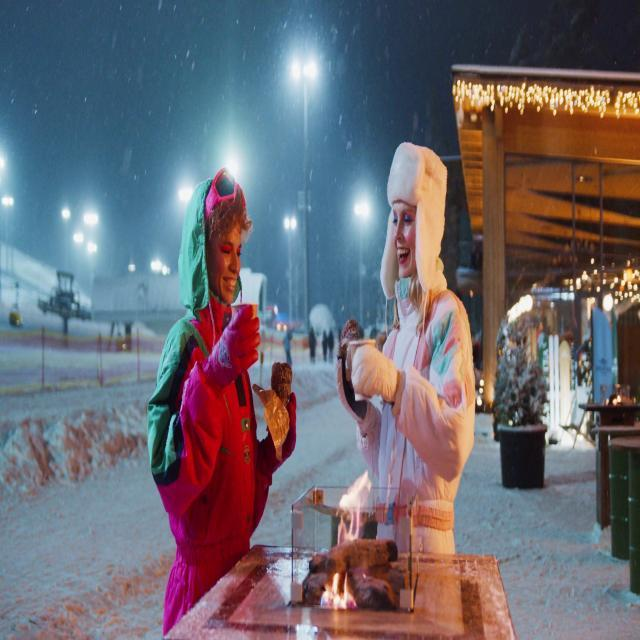Fire: (323, 462, 376, 612)
